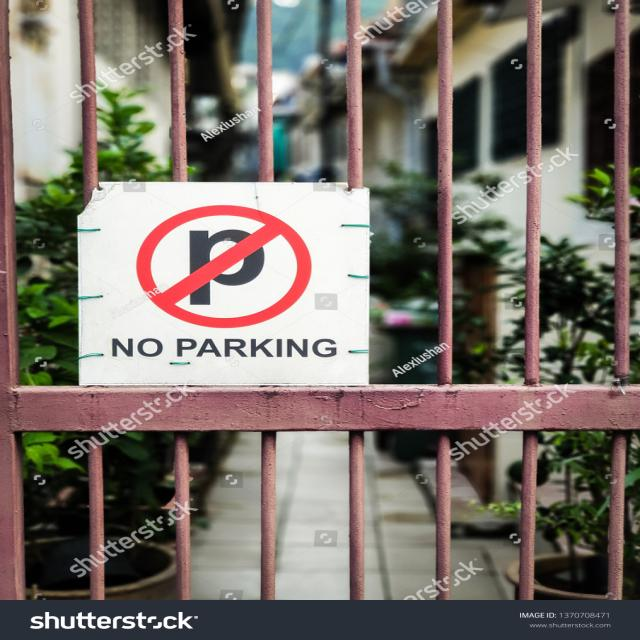Traffic sign: (118, 194, 338, 368)
